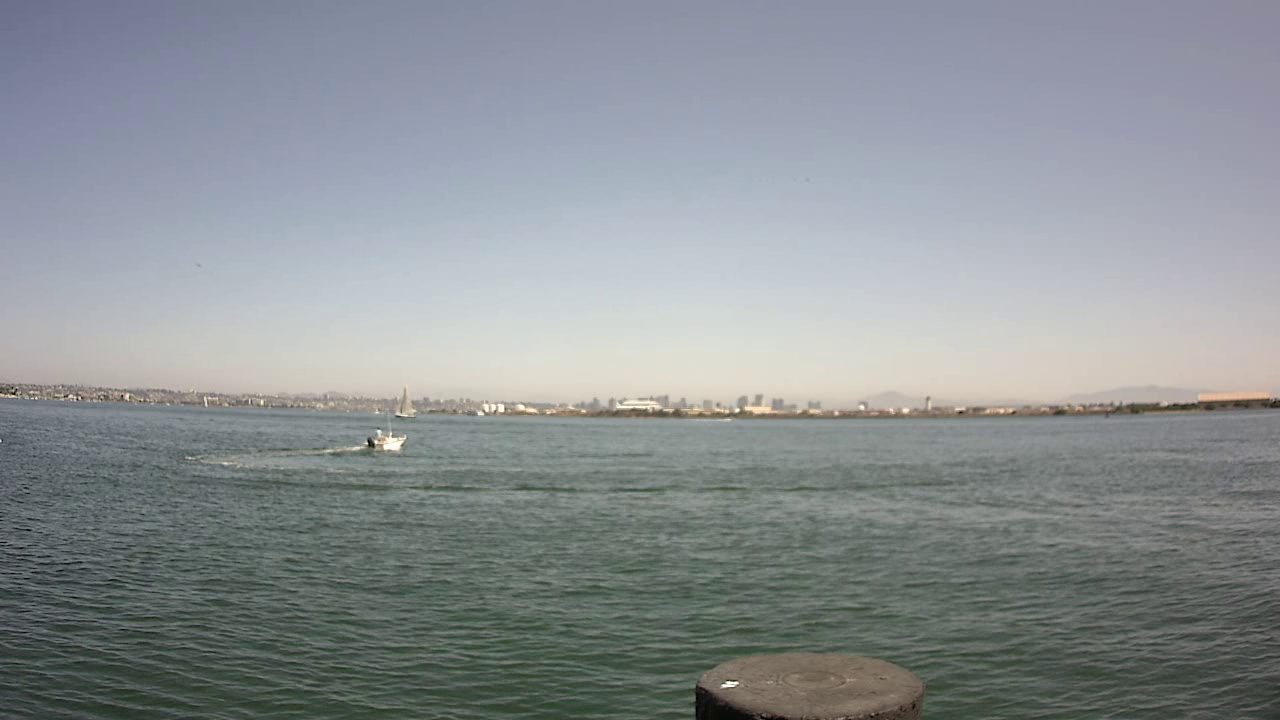target: (356, 407, 414, 461)
